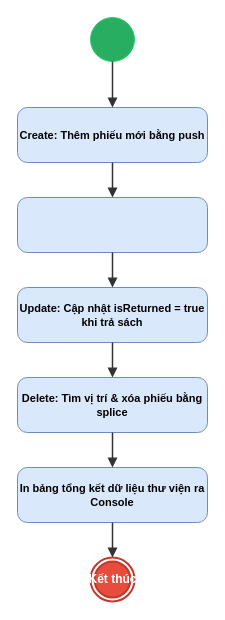
Some shapes in this 225 by 620 pixel diagram are drawn without their labels. Each missing label, with the centre of its shape:
"Khởi tạo mảng borrowRecords: 3 phiếu" goes at point 112,39.
"Read: Duyệt mảng, tính phí phạt quá hạn > 14 ngày" goes at point 112,224.
